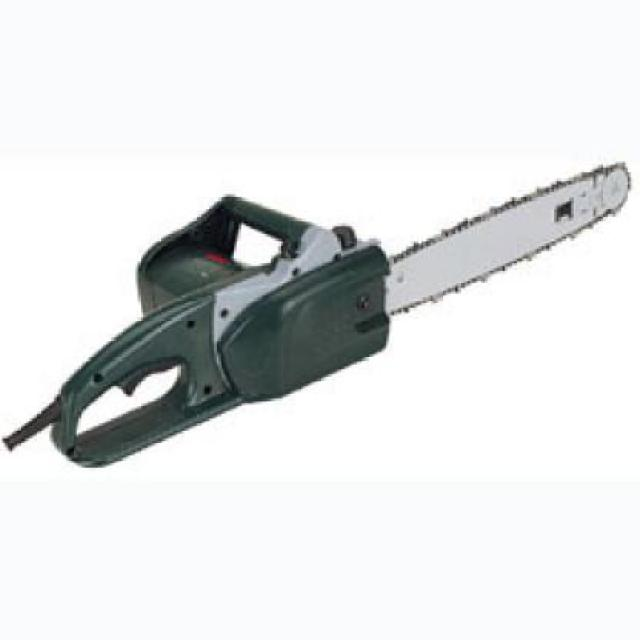Chainsaw: (3, 160, 632, 471)
